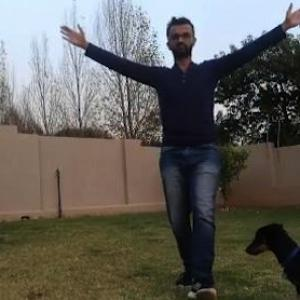takeoff: (46, 0, 300, 286)
